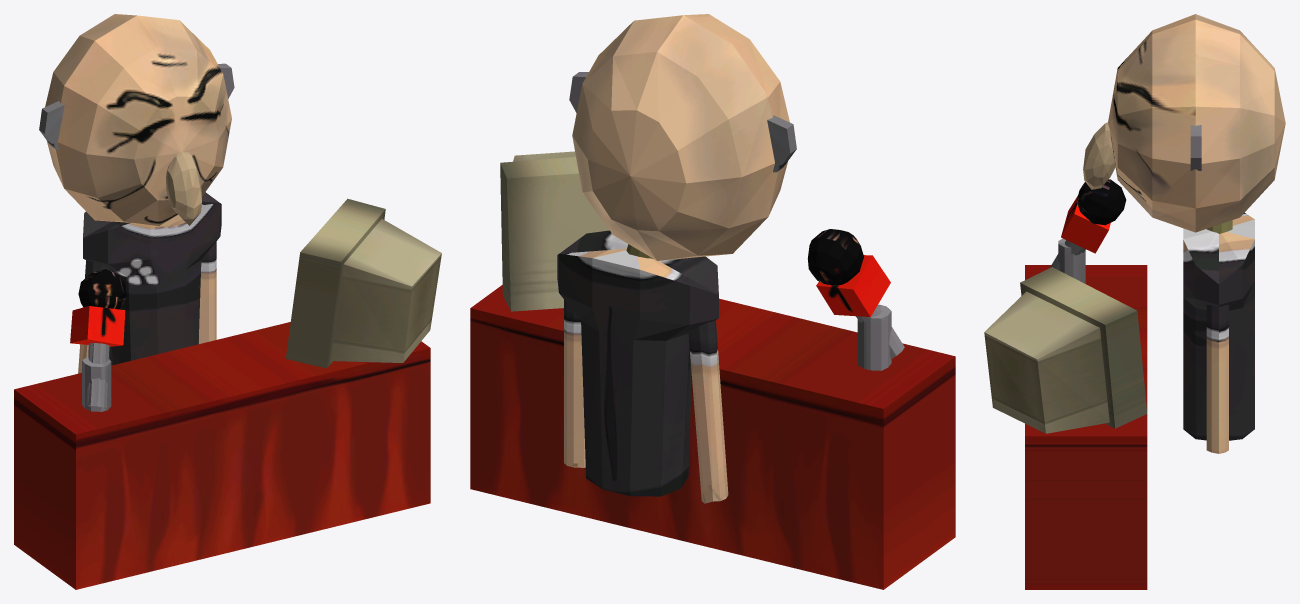
The model's file is Kiviti.glb.
3 renders of one model, left to right at view 1: azimuth 30°, elevation 25°; view 2: azimuth 150°, elevation 25°; view 3: azimuth 270°, elevation 25°, orthographic. The views are drawn at different scales.
Parts seen in each view (by area): view 1: Kiviti; view 2: Kiviti; view 3: Kiviti.
Boxes of the visible parts, x1,y1,x2,y2 form: Kiviti: (14,14,441,589); Kiviti: (470,14,955,589); Kiviti: (984,14,1285,589).
Size of the model in its own units: 153 by 186 by 108.
Materials: 1 (1 with a texture image).
